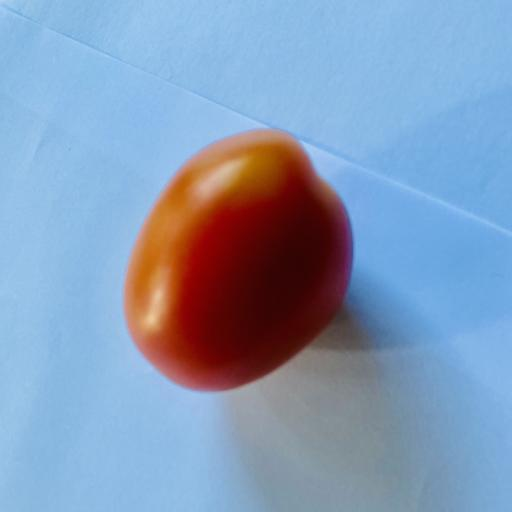ripe: (124, 130, 353, 391)
